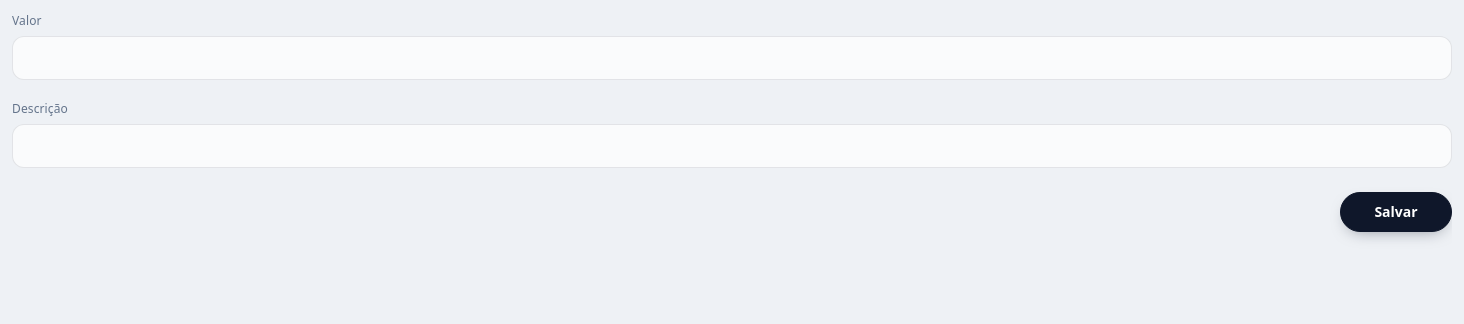
Test: erro por campo permanece ao editar outro campo
Click the button "Salvar" at (1396, 212), box [1340,192,1452,232]
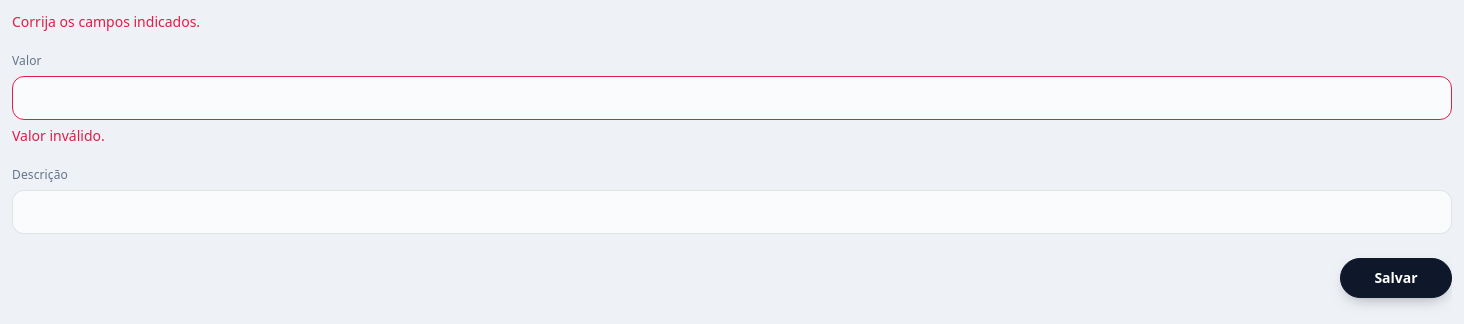
Expected: the text "Valor inválido." is shown, [12,126,105,145]
Type "Viagem" into the field labelled "Descrição" at (732, 212), box [12,190,1452,234]
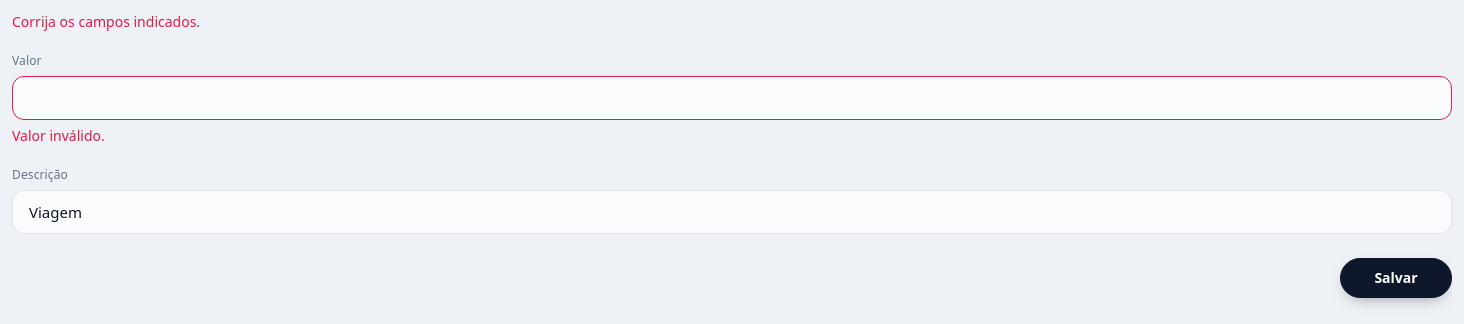
Expected: the text "Valor inválido." is shown, [12,126,105,145]
Type "10" into the field labelled "Valor" at (732, 98), box [12,76,1452,120]
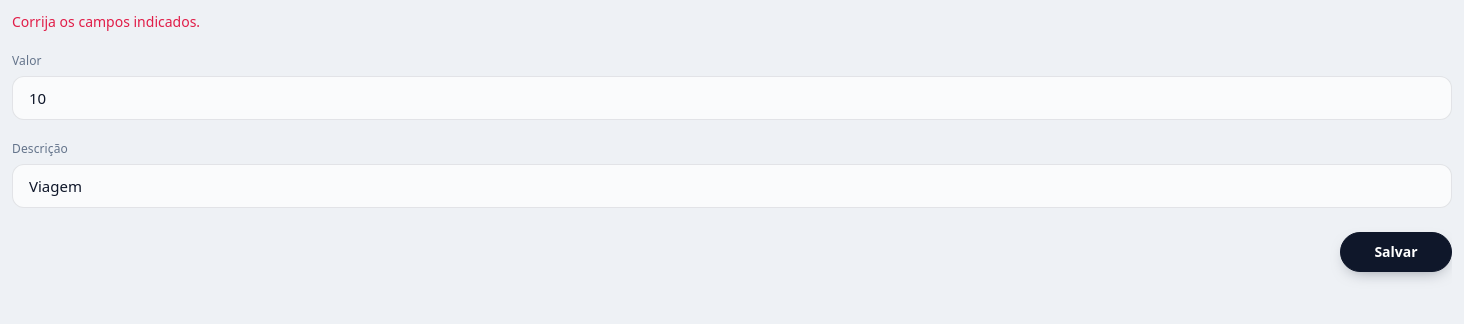
Expected: the text "Valor inválido." is gone
